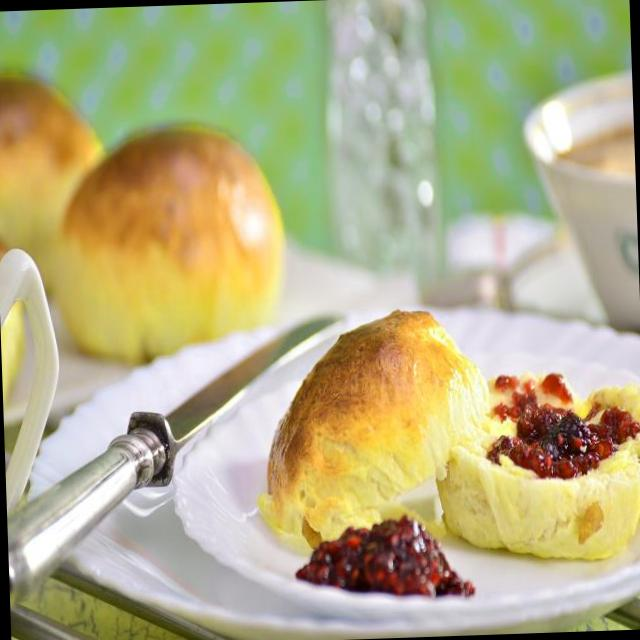Knife: (7, 316, 337, 604)
